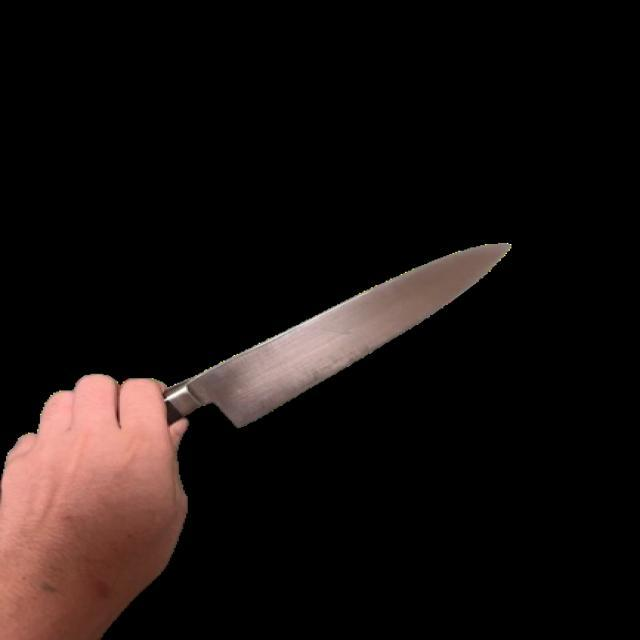knife: (0, 241, 517, 639)
